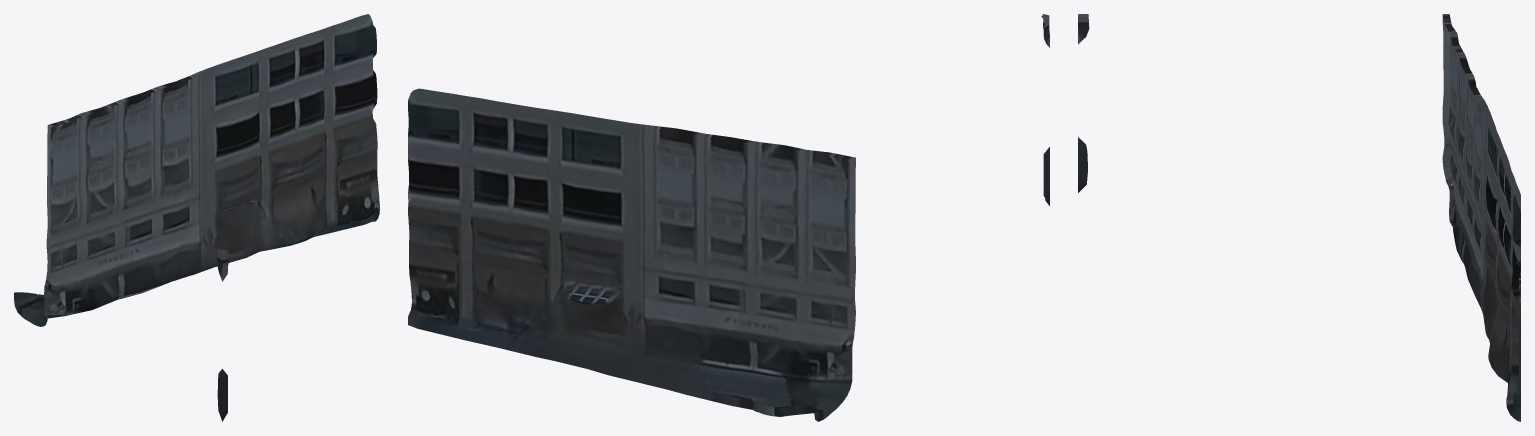
The model's file is z20-167761-405240-h0-yup-uvflip-v3-world.glb.
3 renders of one model, left to right at view 1: azimuth 30°, elevation 25°; view 2: azimuth 150°, elevation 25°; view 3: azimuth 270°, elevation 25°, orthographic. The views are drawn at different scales.
Size of the model in its own units: 30.16 by 16.92 by 30.32.
1 material, 1 textured.
